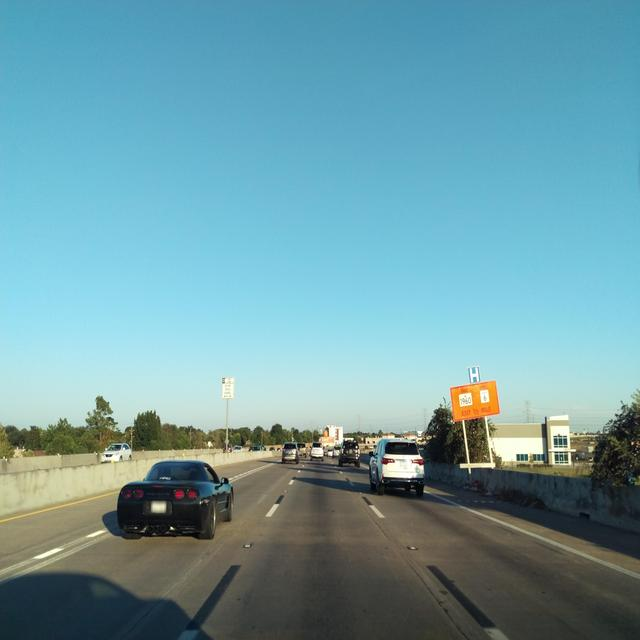Barrier: (0, 445, 283, 519), (424, 462, 639, 532), (360, 449, 374, 461)
Car: (101, 443, 233, 540), (331, 437, 424, 497), (227, 440, 324, 463)
Vegetation: (418, 397, 506, 468), (586, 388, 639, 499), (373, 430, 383, 437)
